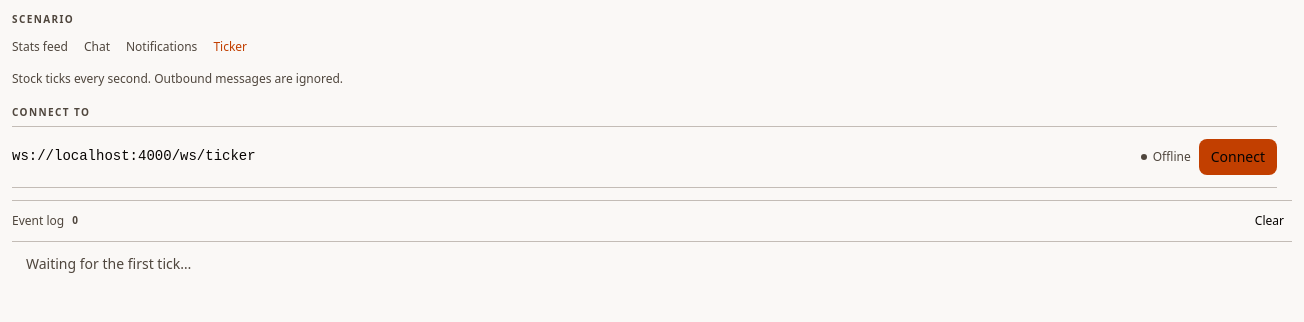
Test case: Playground WebSocket — WsPanel › clears the event log when reconnecting
Click the button "Connect" at (1238, 156), box [1199,138,1277,174]
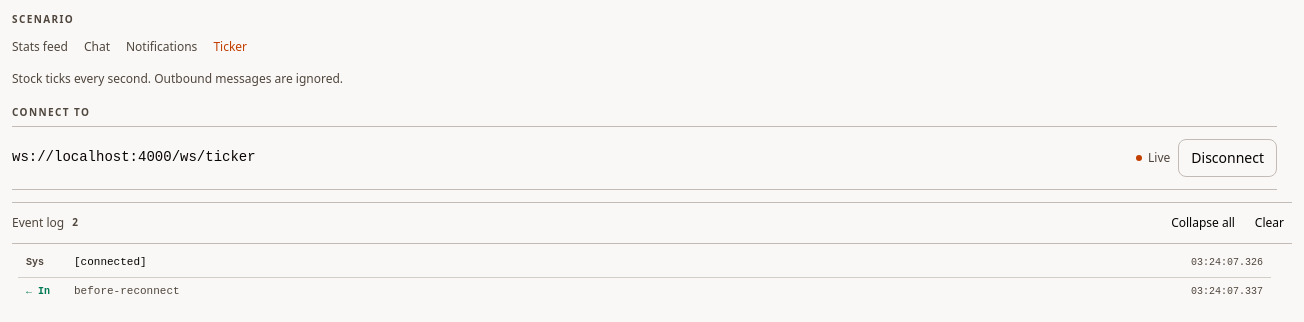
Check: the element named "Event log" shows "before-reconnect", box [18,277,1271,306]
Click the button "Disconnect" at (1228, 158), box [1178,138,1277,176]
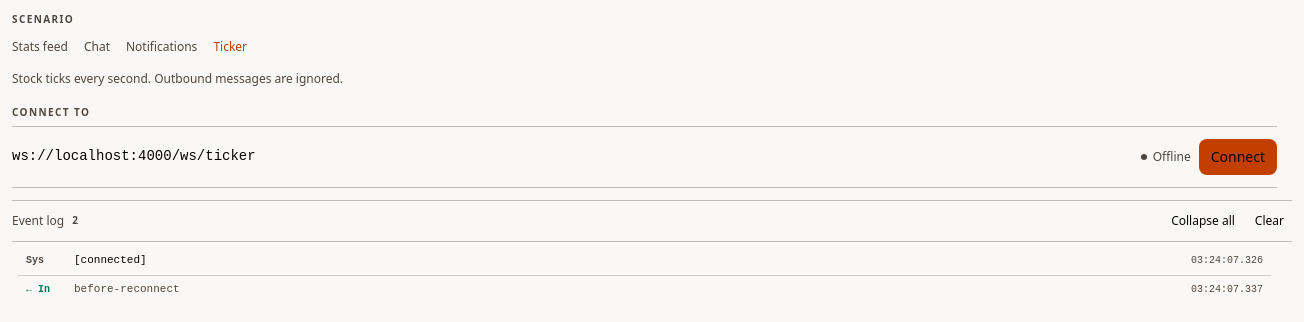
Click the button "Connect" at (1238, 156), box [1199,138,1277,174]
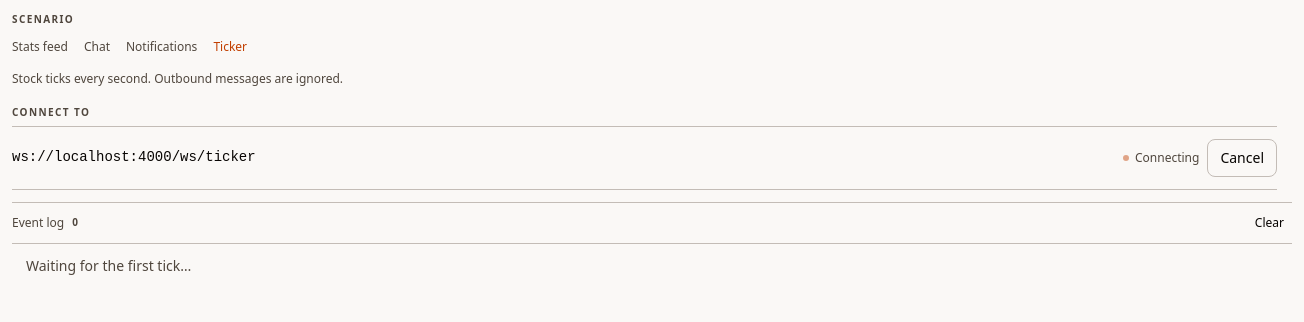
Check: the button "before-reconnect" no longer shows "before-reconnect"
